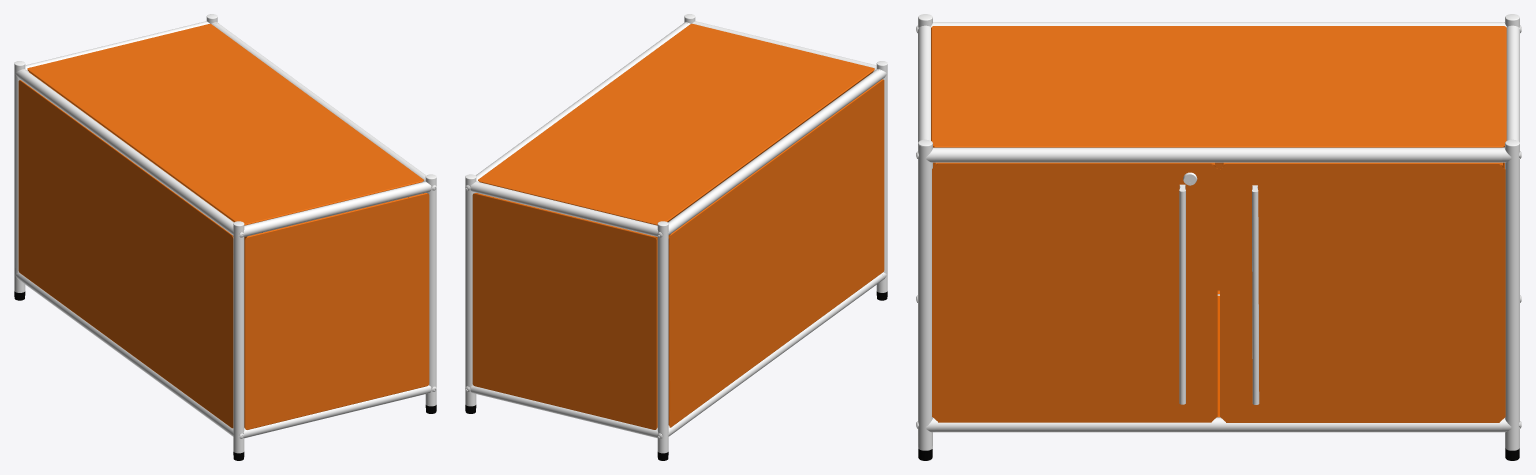
The model's file is 80x40x40-1-7-Orange_optimized.glb.
3 views of the same model, side by side, from view 1: azimuth 30°, elevation 25°; view 2: azimuth 150°, elevation 25°; view 3: azimuth 270°, elevation 25° (orthographic). The views are drawn at different scales.
Visible parts, largest first — view 1: 直角鐵板-80x40-3 - 零件, 鐵管-1層-40-正常腳-32mm-4 - 零件; view 2: 直角鐵板-80x40-3 - 零件, 鐵管-1層-40-正常腳-32mm-4 - 零件; view 3: 直角鐵板-80x40-3 - 零件, 鐵管-1層-40-正常腳-32mm-4 - 零件.
Boxes of the visible parts, bbox=[...] form: 直角鐵板-80x40-3 - 零件: bbox=[18, 23, 429, 429]; 鐵管-1層-40-正常腳-32mm-4 - 零件: bbox=[14, 14, 436, 453]; 直角鐵板-80x40-3 - 零件: bbox=[472, 23, 884, 429]; 鐵管-1層-40-正常腳-32mm-4 - 零件: bbox=[465, 14, 887, 453]; 直角鐵板-80x40-3 - 零件: bbox=[931, 26, 1506, 422]; 鐵管-1層-40-正常腳-32mm-4 - 零件: bbox=[916, 14, 1521, 450].
Bounding box in the file's own units: 0.4203 × 0.4453 × 0.7732.
